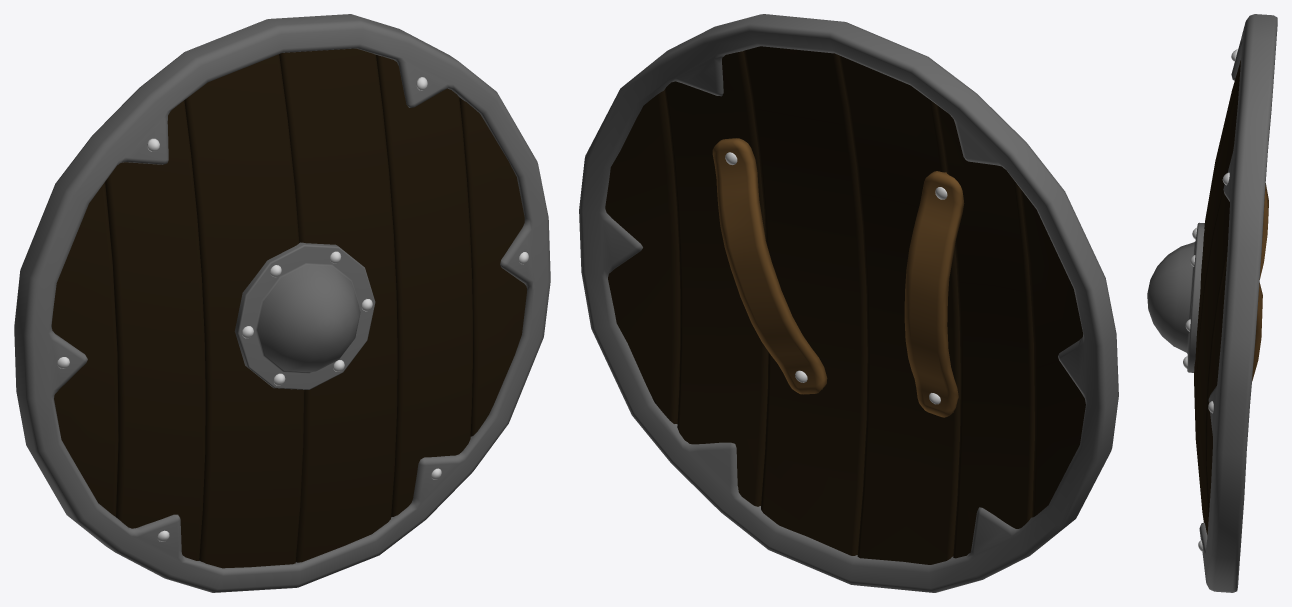
File: uv sheild.fbx
3 renders of one model, left to right at view 1: azimuth 30°, elevation 25°; view 2: azimuth 150°, elevation 25°; view 3: azimuth 270°, elevation 25°, orthographic. The views are drawn at different scales.
Visible parts, largest first — view 1: polySurface9_polySurface037; view 2: polySurface9_polySurface037; view 3: polySurface9_polySurface037.
Part boxes in pixels (x1=…): polySurface9_polySurface037: x1=14, y1=14, x2=550, y2=592; polySurface9_polySurface037: x1=579, y1=14, x2=1118, y2=592; polySurface9_polySurface037: x1=1147, y1=14, x2=1277, y2=592.
Bounding box in the file's own units: 36.98 × 37.62 × 8.42.
